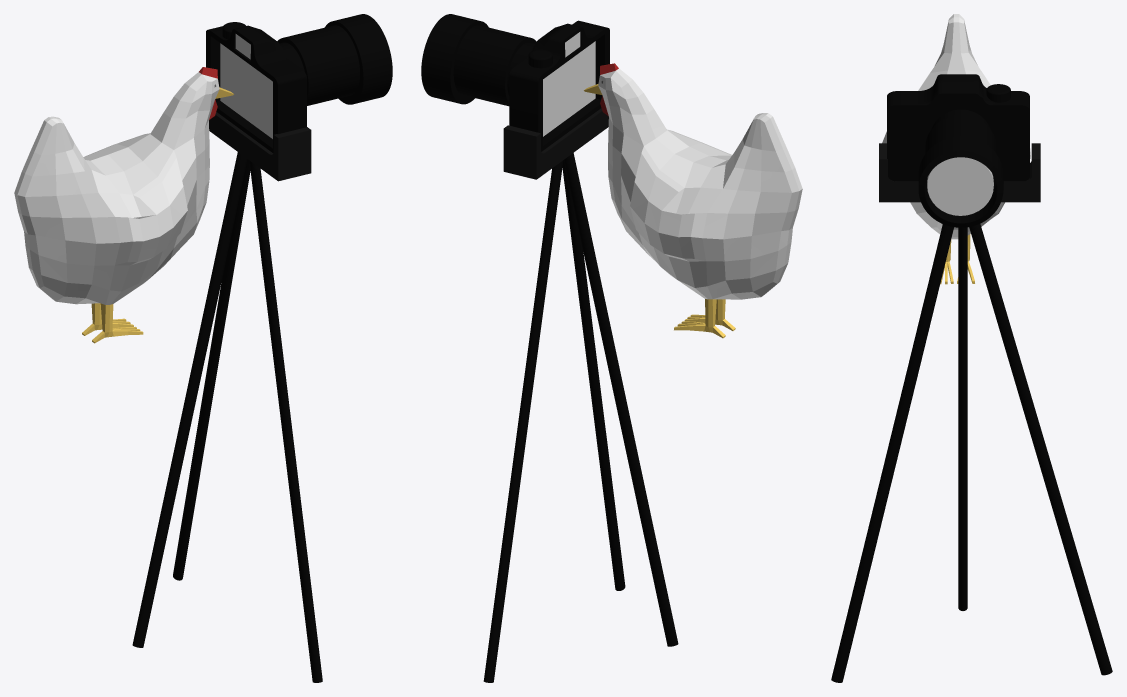
File: chickenCamera.glb
3 views of the same model, side by side, from view 1: azimuth 30°, elevation 25°; view 2: azimuth 150°, elevation 25°; view 3: azimuth 270°, elevation 25° (orthographic).
Parts seen in each view (by area): view 1: Chicken, Cylinder.013, Cylinder.014, Cube, Cylinder.015, Cylinder.005, Cube.002, Cylinder.006, Cube.003; view 2: Chicken, Cylinder.013, Cylinder.015, Cube, Cylinder.014, Cylinder.005, Cube.002, Cylinder.006, Cube.003; view 3: Cube, Cylinder.014, Cylinder.015, Cylinder.013, Cylinder.006, Cylinder.009, Chicken, Cube.002, Cylinder.005.
Part boxes in pixels (box(x1,y1,x2,y2)): Chicken: box(14, 67, 233, 343); Cylinder.013: box(132, 152, 247, 647); Cylinder.014: box(249, 160, 322, 682); Cube: box(206, 25, 306, 153); Cylinder.015: box(173, 159, 250, 580); Cylinder.005: box(277, 25, 359, 105); Cube.002: box(209, 112, 311, 181); Cylinder.006: box(325, 14, 392, 104); Cube.003: box(220, 43, 272, 138); Chicken: box(584, 63, 802, 338); Cylinder.013: box(564, 153, 678, 646); Cylinder.015: box(483, 160, 563, 682); Cube: box(509, 20, 609, 151); Cylinder.014: box(562, 160, 625, 590); Cylinder.005: box(453, 25, 536, 106); Cube.002: box(503, 108, 608, 179); Cylinder.006: box(421, 14, 488, 104); Cube.003: box(543, 41, 595, 136); Cube: box(887, 74, 1029, 181); Cylinder.014: box(831, 224, 953, 682); Cylinder.015: box(969, 224, 1112, 675); Cylinder.013: box(958, 227, 967, 610); Cylinder.006: box(918, 136, 1003, 227); Cylinder.009: box(927, 157, 993, 215); Chicken: box(882, 14, 1030, 284); Cube.002: box(879, 143, 1040, 202); Cylinder.005: box(925, 115, 996, 186).
Size of the model in its own units: 24.7 by 39.72 by 16.85.
